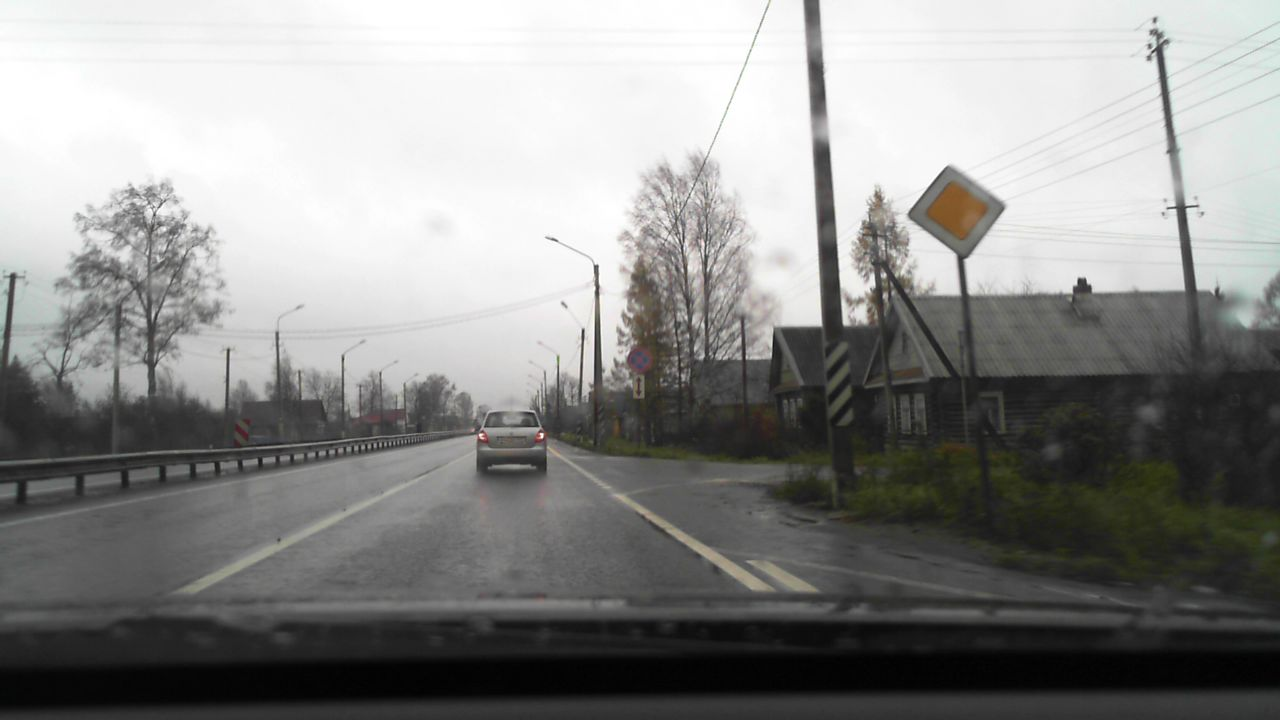No Parking: (627, 347, 652, 372)
